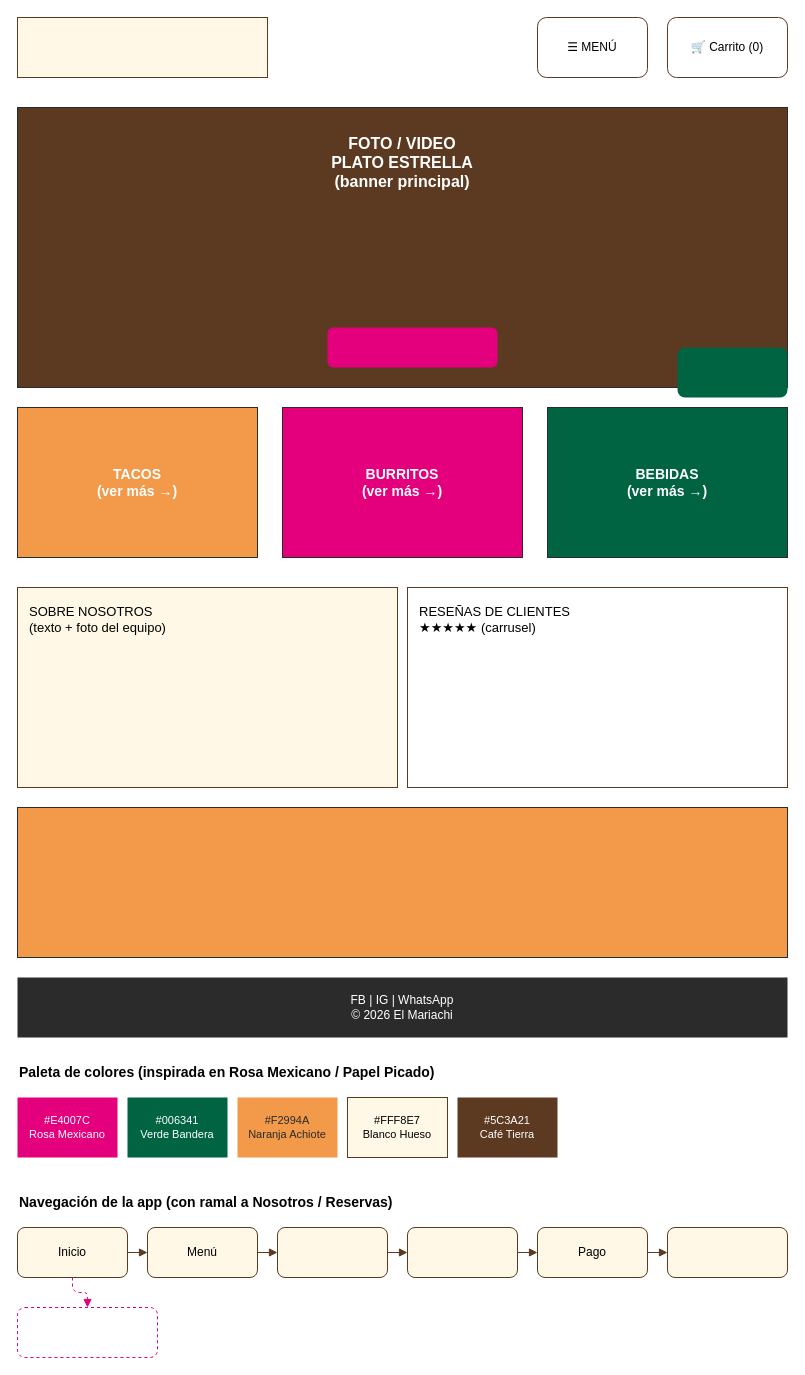
Some shapes in this 805 by 1375 pixel diagram are drawn without their labels. Here are the shapes that lost their labels. From the top down, the centre of each, then its label:
(142,47): LOGO EL MARIACHI
(412,347): VER MENÚ →
(732,372): 💬 Pedir por WhatsApp
(402,882): MAPA + DIRECCIÓN Teléfono | Horario de atención
(332,1252): Detalle Platillo
(462,1252): Carrito
(727,1252): Confirmación
(87,1332): Nosotros / Reservas
